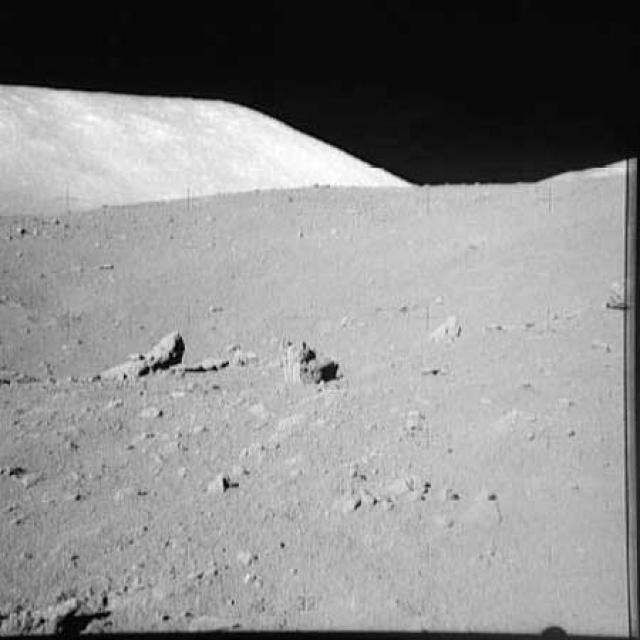rock: (83, 323, 187, 380), (0, 582, 87, 638), (165, 340, 256, 382), (270, 330, 340, 382), (423, 307, 469, 351), (592, 268, 636, 313)
